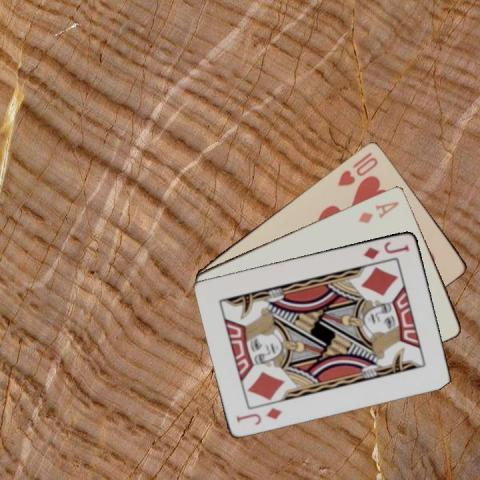10h: (335, 149, 379, 187)
Ad: (356, 198, 402, 225)
Jd: (360, 238, 410, 261), (234, 404, 284, 426)
